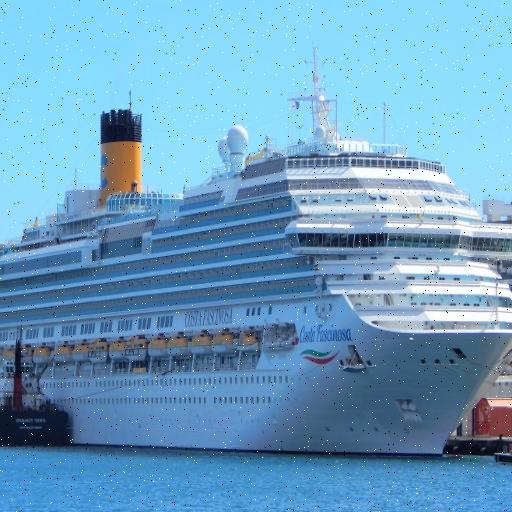cruises: (1, 51, 512, 471)
